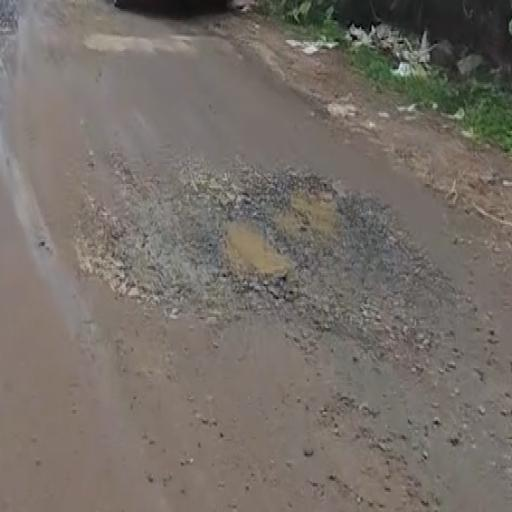pothole: (214, 72, 339, 386)
ravelling: (346, 175, 487, 433), (54, 126, 206, 356)
